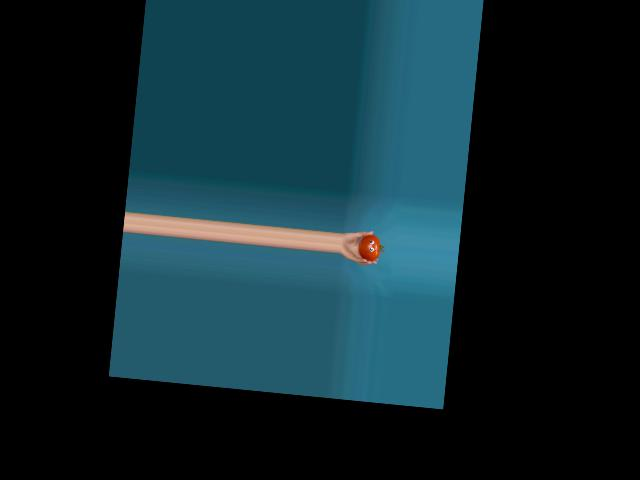tomato: (356, 233, 381, 261)
